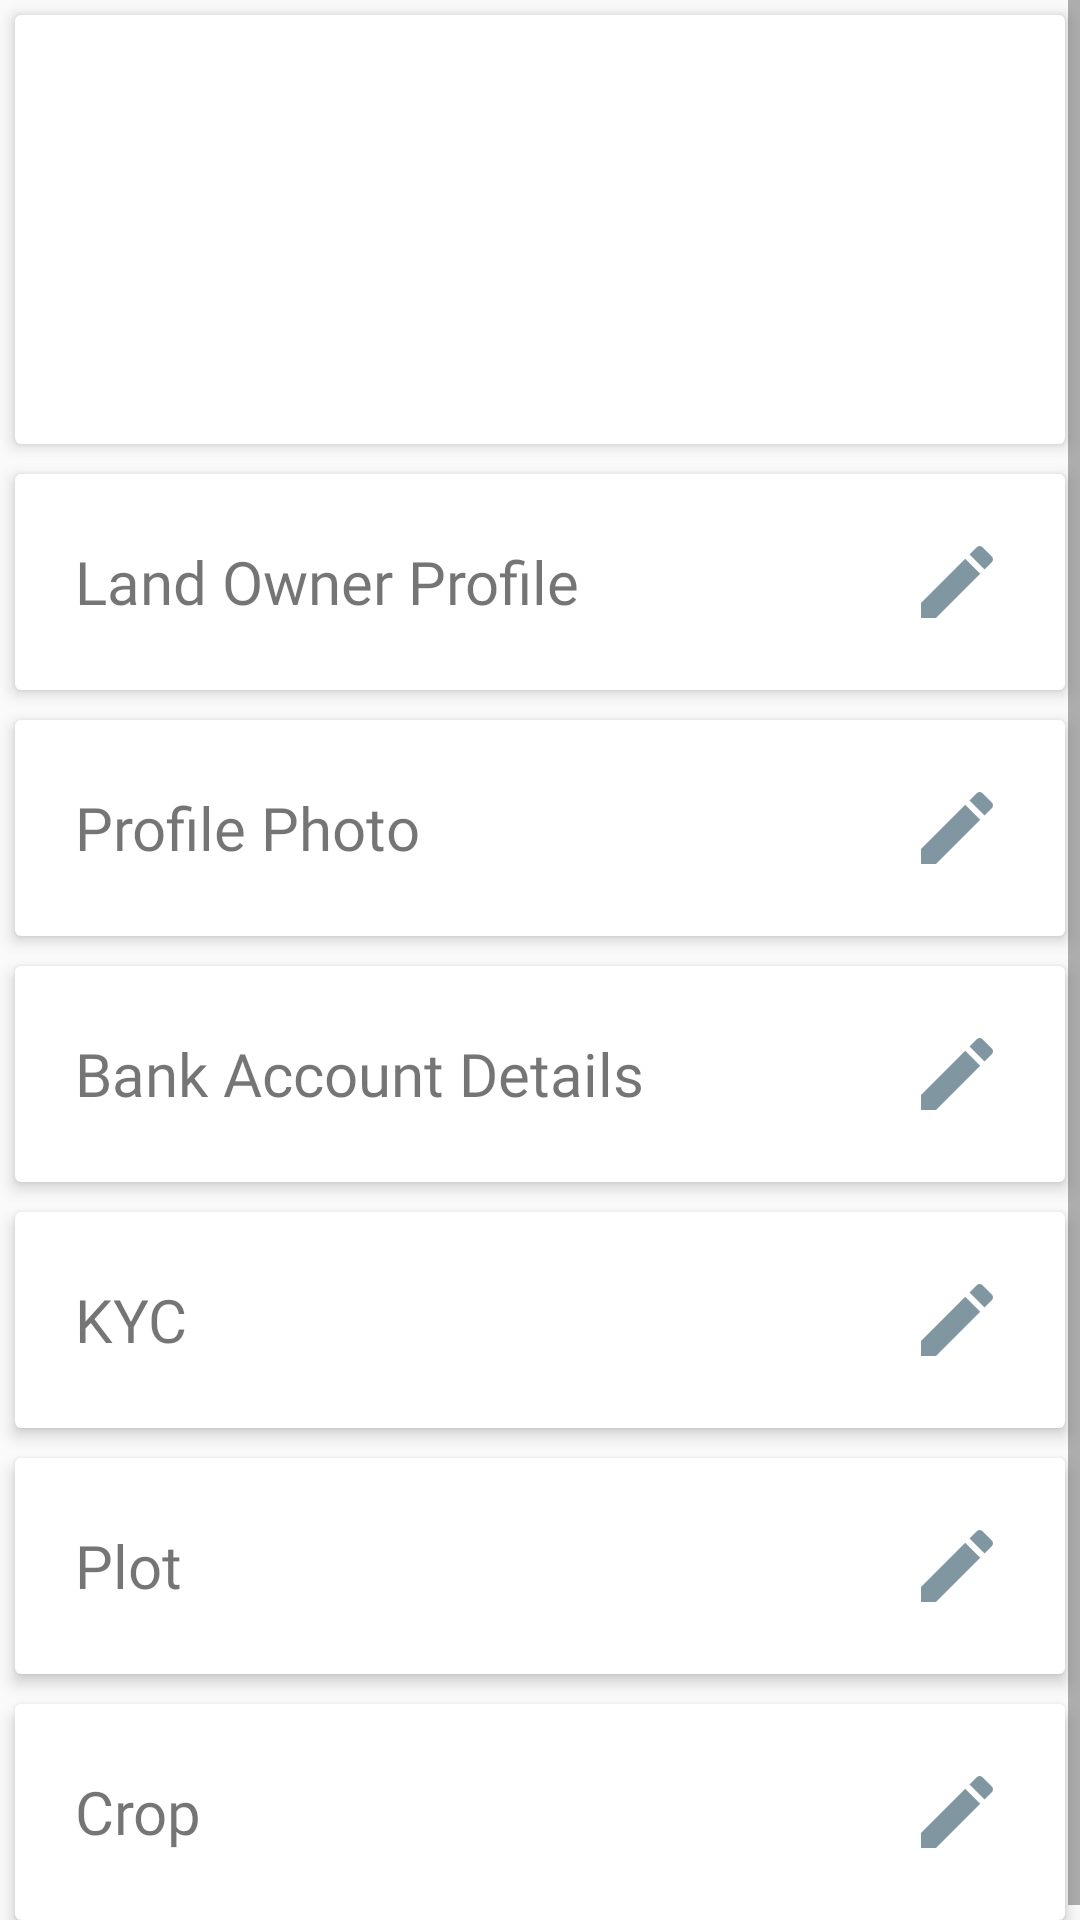

Named icons in this screenshot (1080px x 1920px) and their bounding boxes, (x1, y1, x2, y2):
edit: (921, 546, 993, 618), (921, 792, 993, 864), (921, 1038, 993, 1110), (921, 1284, 993, 1356), (921, 1530, 993, 1602), (921, 1776, 993, 1848)
